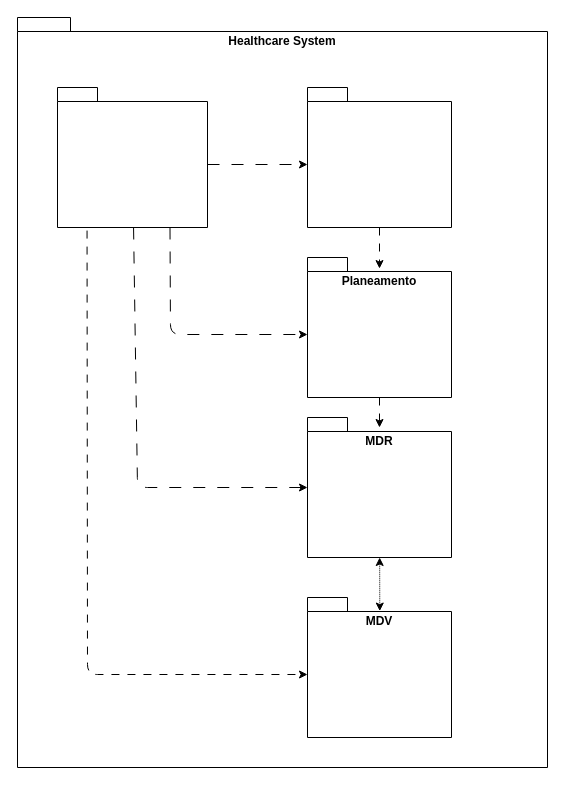
This 565x785 diagram has some shape labels left out. The centre of each missing label's shape, as x and y in pixels:
"3D" goes at [379,157].
"UI" goes at [132,157].
